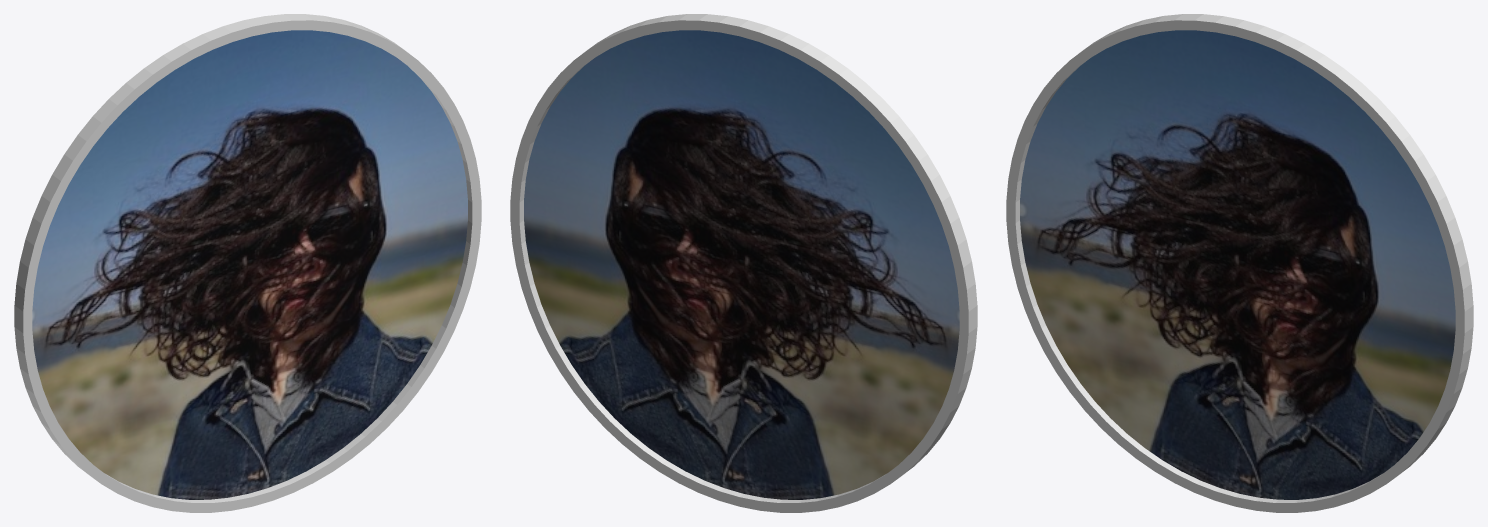
File: card_me_rounded.gltf
3 renders of one model, left to right at view 1: azimuth 30°, elevation 25°; view 2: azimuth 150°, elevation 25°; view 3: azimuth 330°, elevation 25°, orthographic.
Visible parts, largest first — view 1: 圓形, 圓柱體; view 2: 圓形, 圓柱體; view 3: 圓形, 圓柱體.
Boxes of the visible parts, bbox=[...] form: 圓形: bbox=[32, 30, 467, 499]; 圓柱體: bbox=[14, 14, 481, 512]; 圓形: bbox=[524, 30, 959, 499]; 圓柱體: bbox=[510, 14, 977, 512]; 圓形: bbox=[1020, 30, 1455, 499]; 圓柱體: bbox=[1006, 14, 1473, 512].
Size of the model in its own units: 29.97 by 30 by 1.
2 materials, 1 textured.
